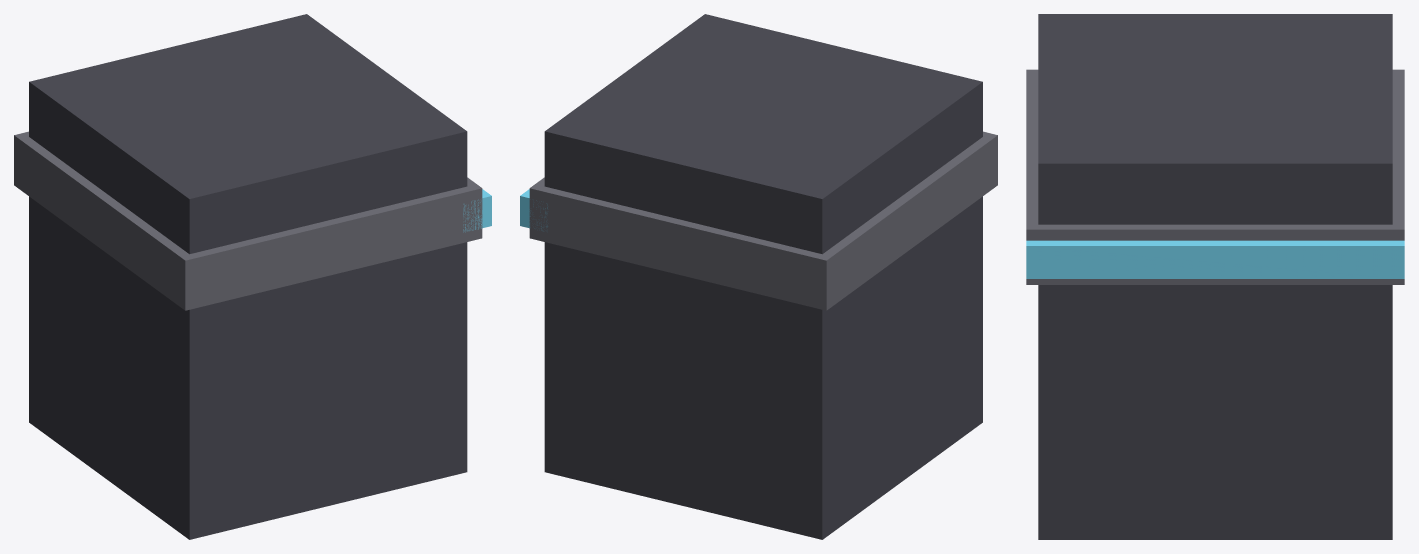
Rendered from cauboi_neon_manga_sup.glb.
3 renders of one model, left to right at view 1: azimuth 30°, elevation 25°; view 2: azimuth 150°, elevation 25°; view 3: azimuth 270°, elevation 25°, orthographic. The views are drawn at different scales.
Parts seen in each view (by area): view 1: cauboi_neon_manga_sup; view 2: cauboi_neon_manga_sup; view 3: cauboi_neon_manga_sup.
Boxes of the visible parts, x1,y1,x2,y2 form: cauboi_neon_manga_sup: [14, 14, 491, 539]; cauboi_neon_manga_sup: [520, 14, 997, 539]; cauboi_neon_manga_sup: [1026, 14, 1404, 539].
Bounding box in the file's own units: 0.32 × 0.34 × 0.31.
